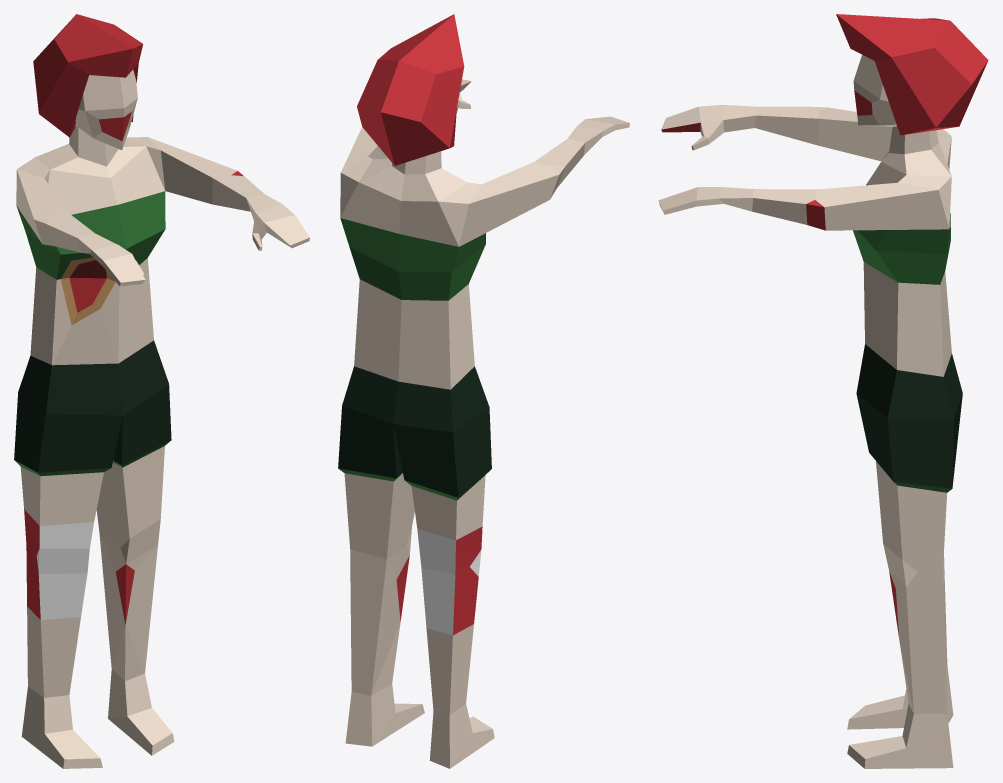
The model's file is people_woman-zombie.fbx.
The picture shows the model from 3 angles, left to right: view 1: azimuth 30°, elevation 25°; view 2: azimuth 150°, elevation 25°; view 3: azimuth 270°, elevation 25°; orthographic projection. The views are drawn at different scales.
Visible parts, largest first — view 1: people_woman_zombie; view 2: people_woman_zombie; view 3: people_woman_zombie.
Boxes of the visible parts, x1=… form: people_woman_zombie: x1=14, y1=14, x2=309, y2=768; people_woman_zombie: x1=338, y1=14, x2=629, y2=768; people_woman_zombie: x1=658, y1=14, x2=988, y2=768.
Bounding box in the file's own units: 58.87 × 199 × 81.95.
